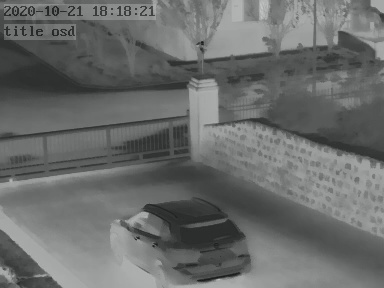vehicle: (105, 198, 251, 288)
